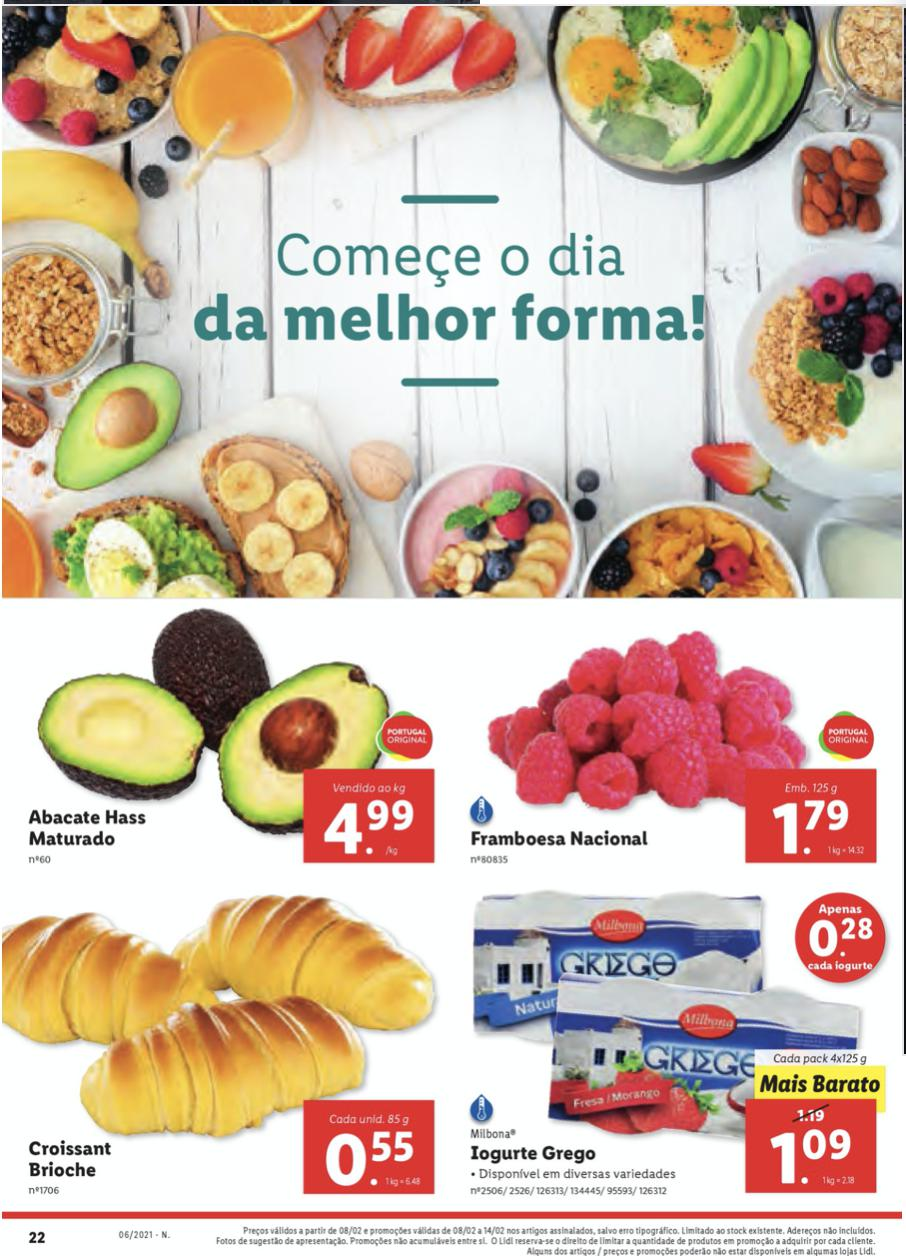name: (28, 805, 151, 847), (21, 1138, 117, 1183), (467, 827, 651, 850), (468, 1141, 599, 1168)
price: (765, 794, 860, 861), (317, 797, 417, 859), (765, 1129, 856, 1194), (323, 1129, 418, 1188)
product: (1, 891, 449, 1224), (462, 886, 901, 1207), (17, 596, 448, 874), (462, 611, 895, 886)
